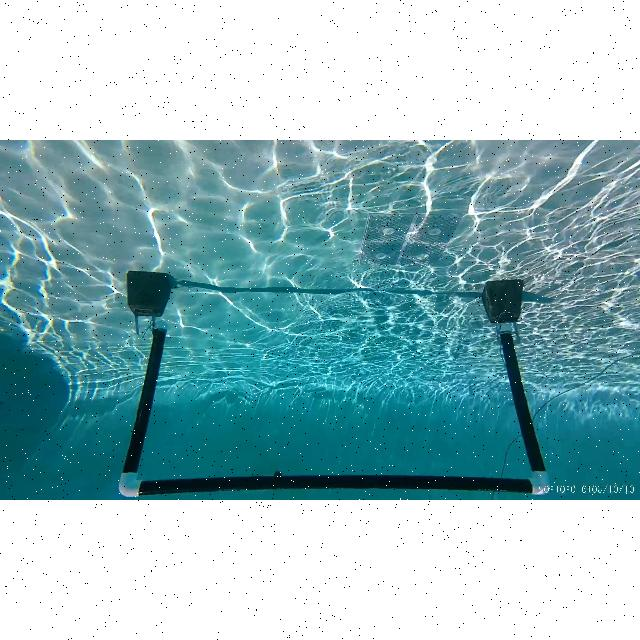prequal gate: (121, 320, 553, 500)
prequal gate leg l: (480, 278, 560, 498)
prequal gate leg r: (114, 270, 178, 500)
